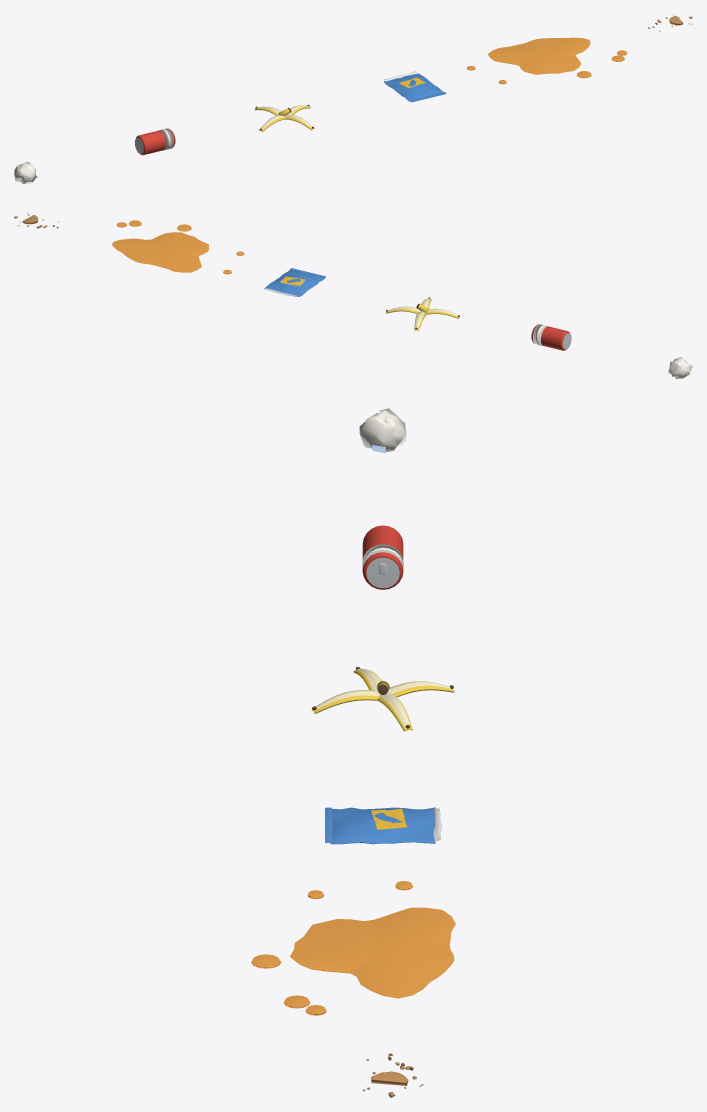
Rendered from litter.glb.
3 renders of one model, top to bottom at view 1: azimuth 30°, elevation 25°; view 2: azimuth 150°, elevation 25°; view 3: azimuth 270°, elevation 25°, orthographic. The views are drawn at different scales.
Visible parts, largest first — view 1: litter_spill, litter_wrapper, litter_can, litter_peel, litter_paper; view 2: litter_spill, litter_wrapper, litter_can, litter_peel, litter_paper; view 3: litter_spill, litter_wrapper, litter_peel, litter_can, litter_paper.
Boxes of the visible parts, x1,y1,x2,y2 form: litter_spill: (466,37,627,84); litter_wrapper: (383,71,446,102); litter_can: (135,128,175,155); litter_peel: (254,104,314,132); litter_paper: (14,162,37,184); litter_spill: (112,220,244,274); litter_wrapper: (264,268,325,296); litter_can: (531,324,571,350); litter_peel: (386,297,459,330); litter_paper: (668,357,692,379); litter_spill: (251,881,455,1015); litter_wrapper: (325,807,441,844); litter_peel: (311,667,454,731); litter_can: (362,525,403,589); litter_paper: (359,408,406,453).
Size of the model in its own units: 3.15 by 0.0877 by 0.4145.
